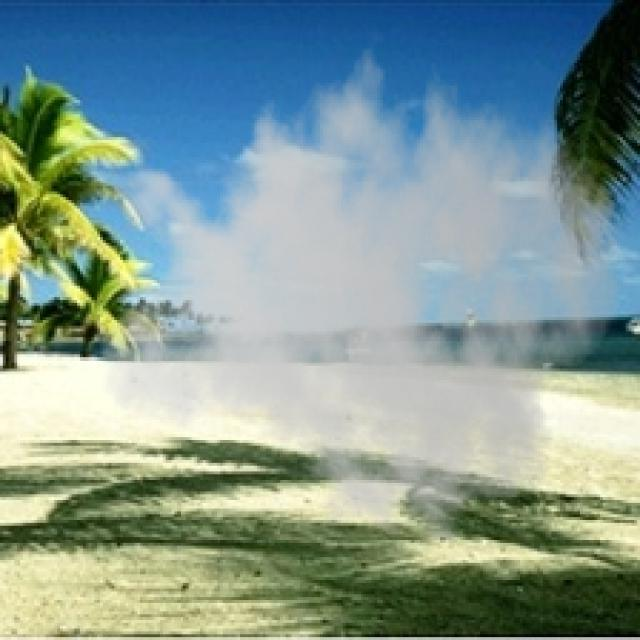Smoke: (97, 23, 623, 560)
